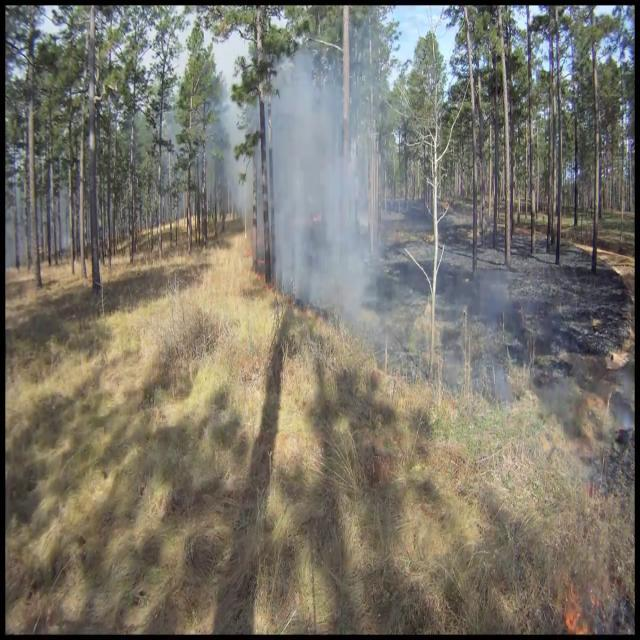Smoke: (260, 25, 398, 352)
